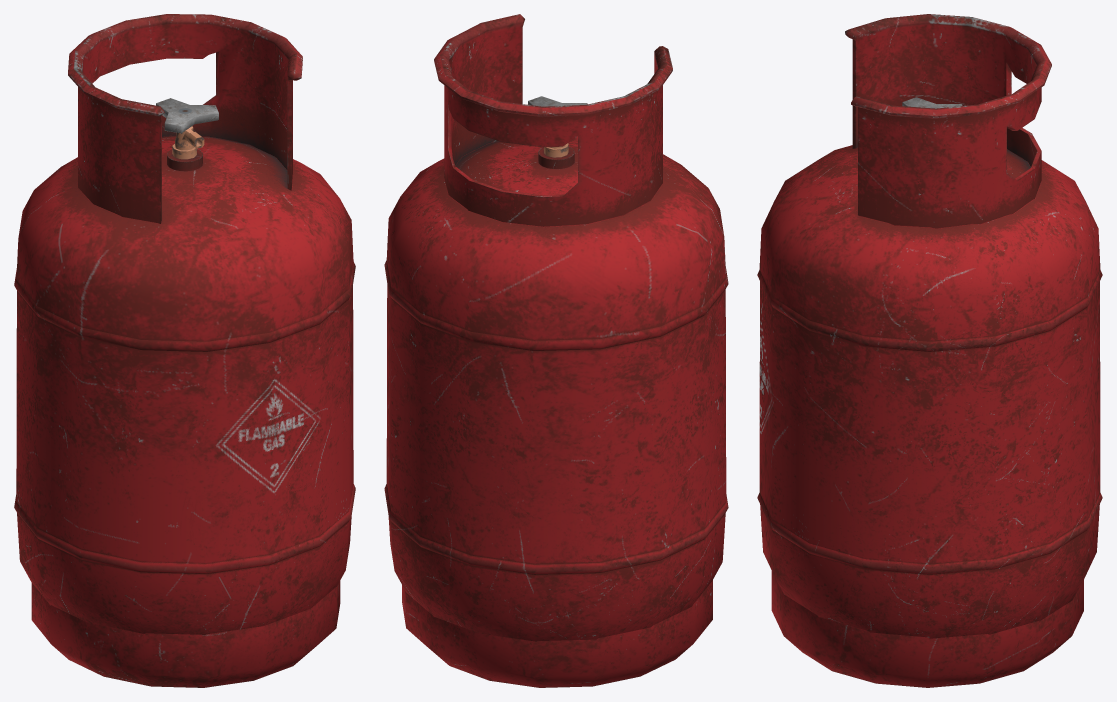
File: GasBallone01_1.FBX
The picture shows the model from 3 angles, left to right: view 1: azimuth 30°, elevation 25°; view 2: azimuth 150°, elevation 25°; view 3: azimuth 270°, elevation 25°; orthographic projection.
Parts seen in each view (by area): view 1: GasBallone01_1; view 2: GasBallone01_1; view 3: GasBallone01_1.
Part boxes in pixels (<box>): GasBallone01_1: <box>14,14,355,687</box>; GasBallone01_1: <box>384,14,728,687</box>; GasBallone01_1: <box>757,14,1102,687</box>.
Bounding box in the file's own units: 49.35 × 89.74 × 49.35.
